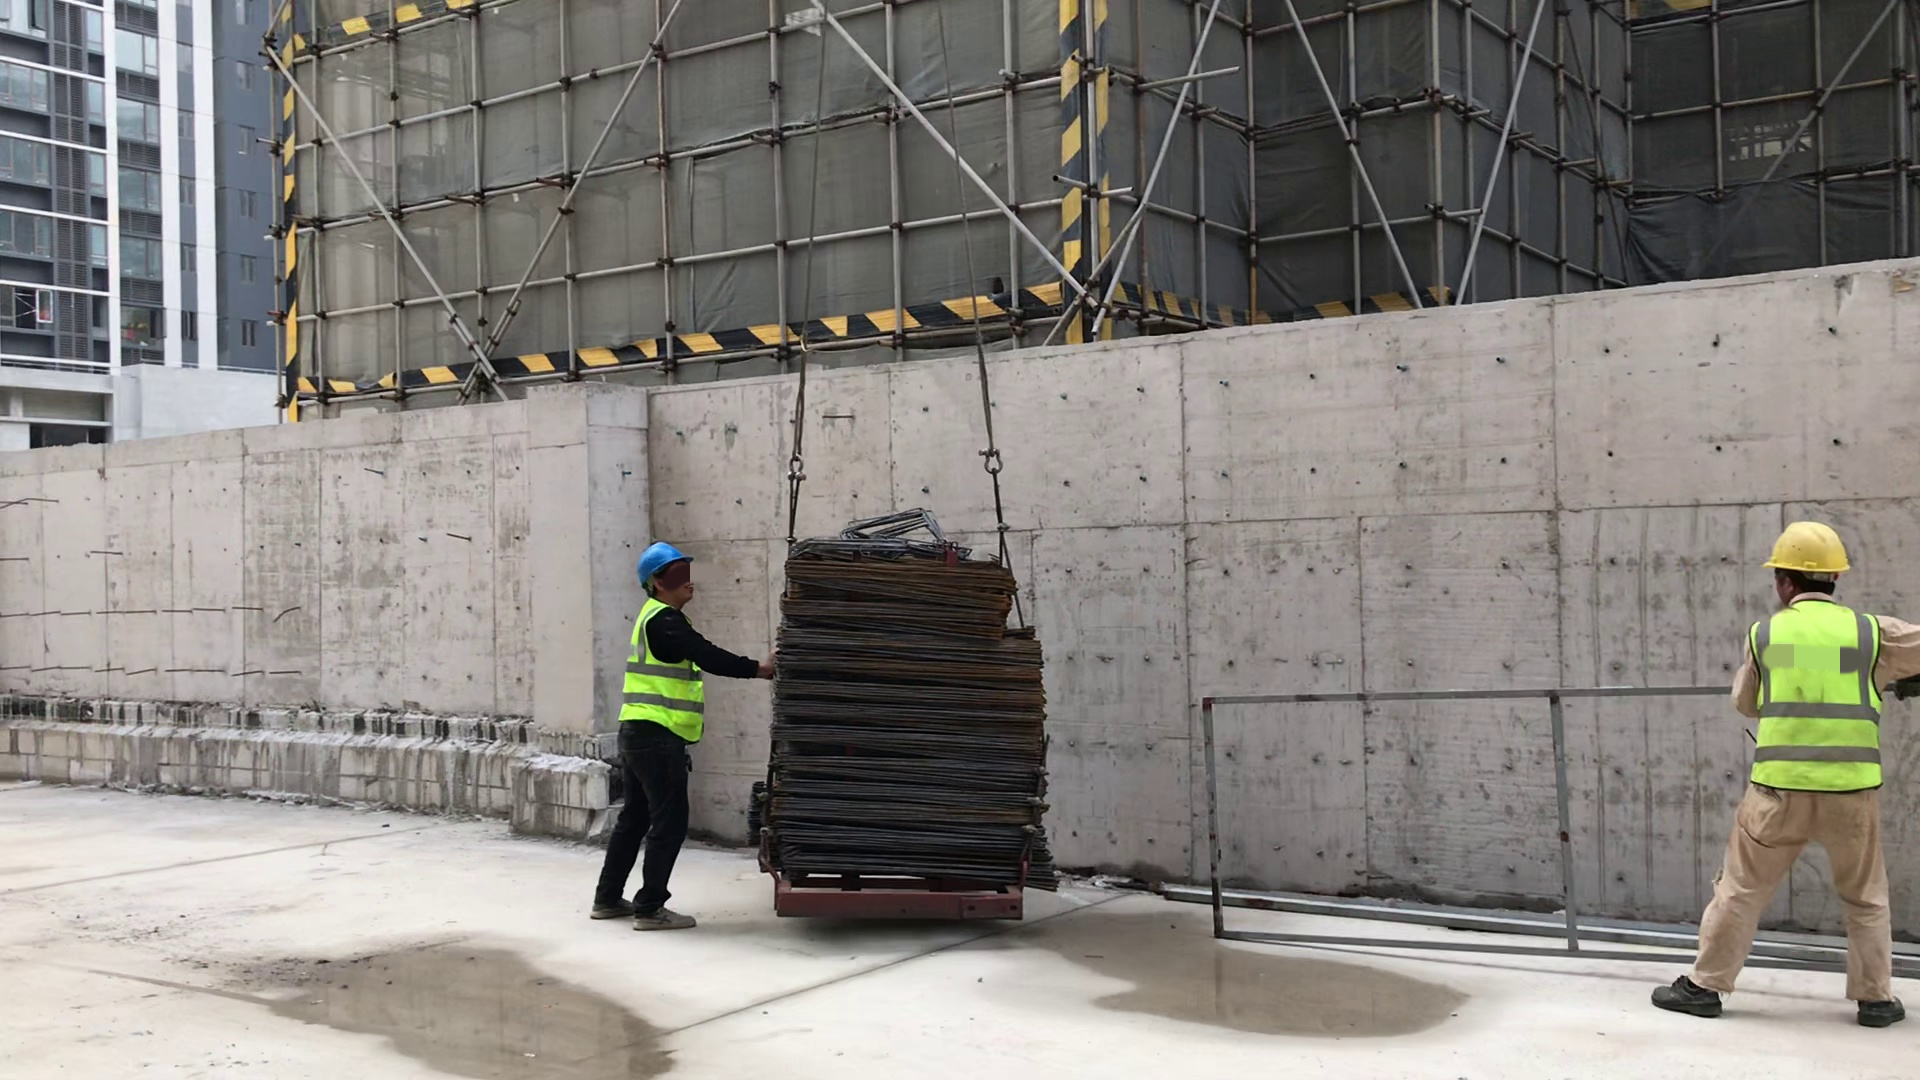helmet: (1757, 506, 1869, 601), (625, 534, 691, 592)
person: (1679, 499, 1920, 1033), (594, 531, 718, 940)
vest: (1752, 605, 1879, 784), (626, 603, 701, 732)
